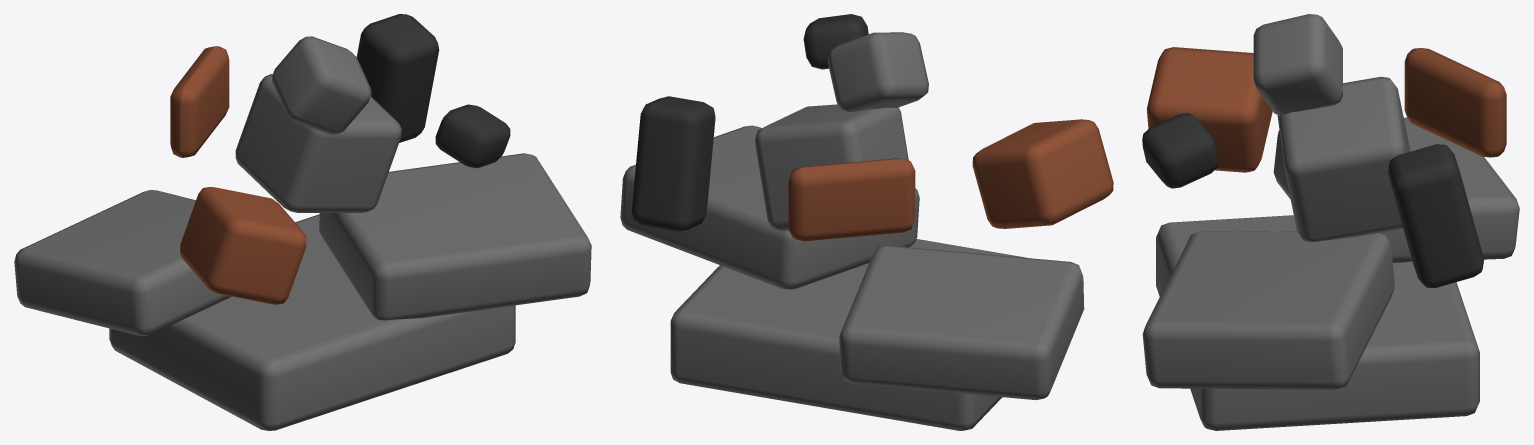
File: scrap-pile.glb
The picture shows the model from 3 angles, left to right: view 1: azimuth 30°, elevation 25°; view 2: azimuth 150°, elevation 25°; view 3: azimuth 270°, elevation 25°; orthographic projection. The views are drawn at different scales.
Parts seen in each view (by area): view 1: scrap-pile; view 2: scrap-pile; view 3: scrap-pile.
Boxes of the visible parts, left/top/right/bottom form: scrap-pile: left=14, top=14, right=591, bottom=430; scrap-pile: left=620, top=14, right=1113, bottom=430; scrap-pile: left=1142, top=14, right=1519, bottom=430.
Size of the model in its own units: 1.17 by 0.7605 by 0.7677.
